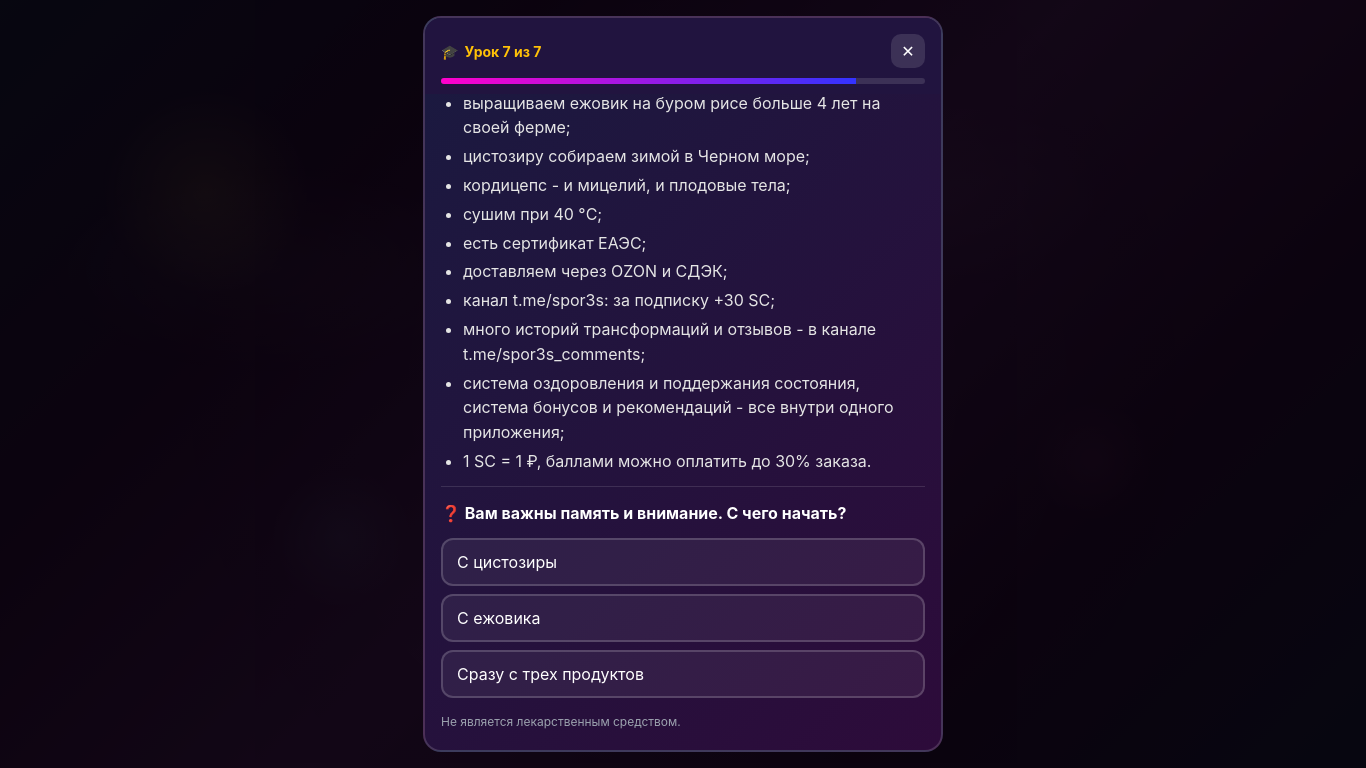
Test: финал › сервер не ответил — ошибка и повтор
This screenshot has width=1366, height=768.
(page scrolled)
Click the button "С ежовика" at (499, 618), box [441,594,925,642]
(page scrolled)
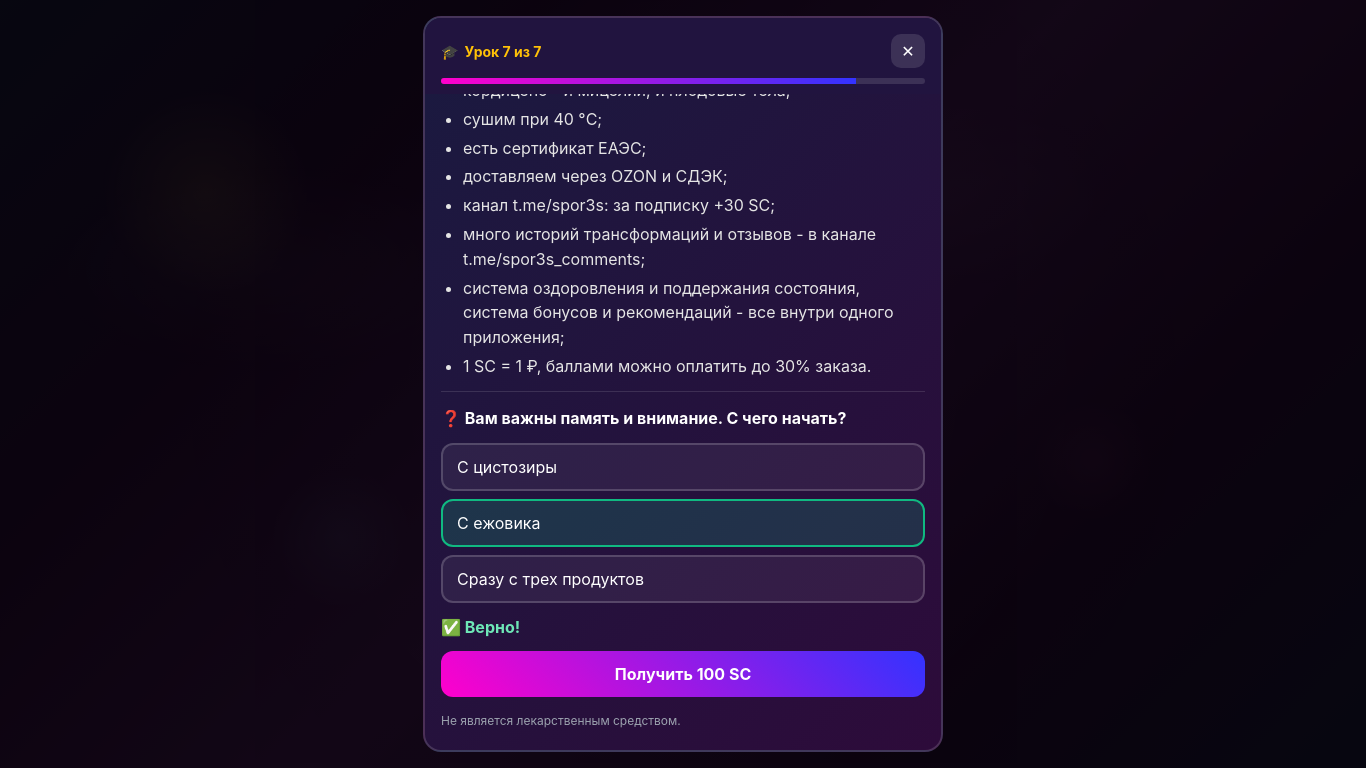
Click the button "Получить 100 SC" at (683, 674), box [441,651,925,697]
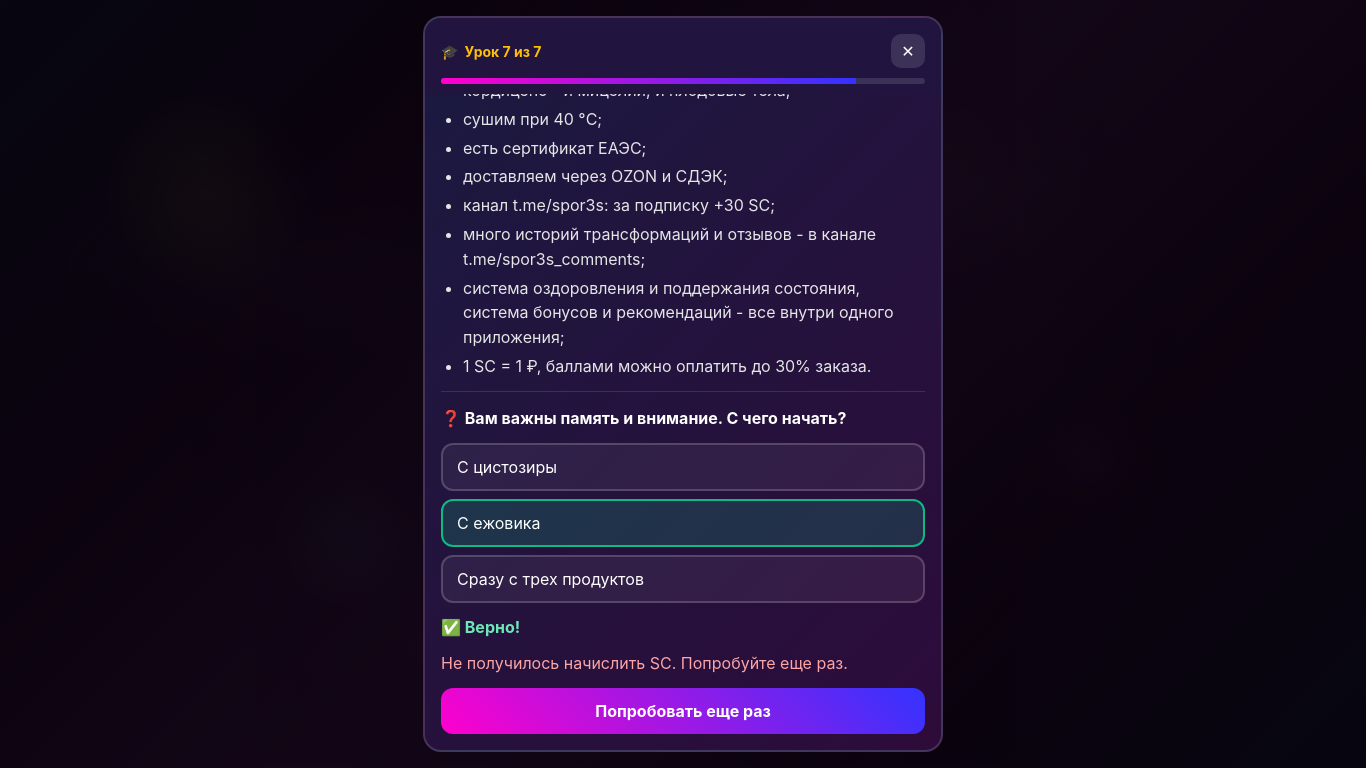
expect the text "Не получилось начислить SC. Попробуйте еще раз." is shown: met, box [441,653,848,673]
Click the button "Попробовать еще раз" at (683, 711), box [441,688,925,734]
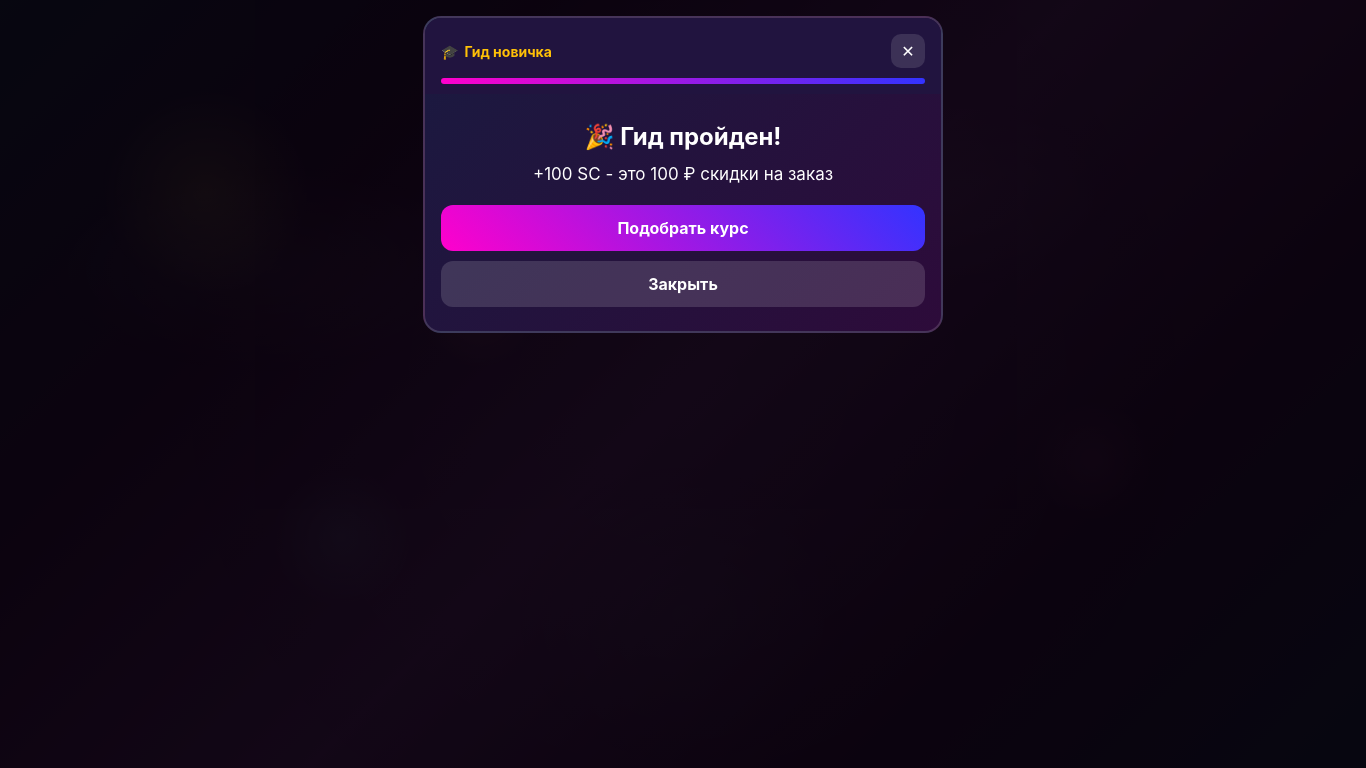
expect the heading "🎉 Гид пройден!" is shown: met, box [584,122,781,151]
